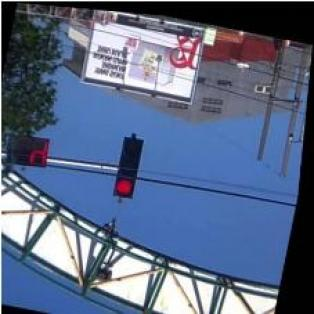Semaforo Rojo: (114, 133, 146, 196)
